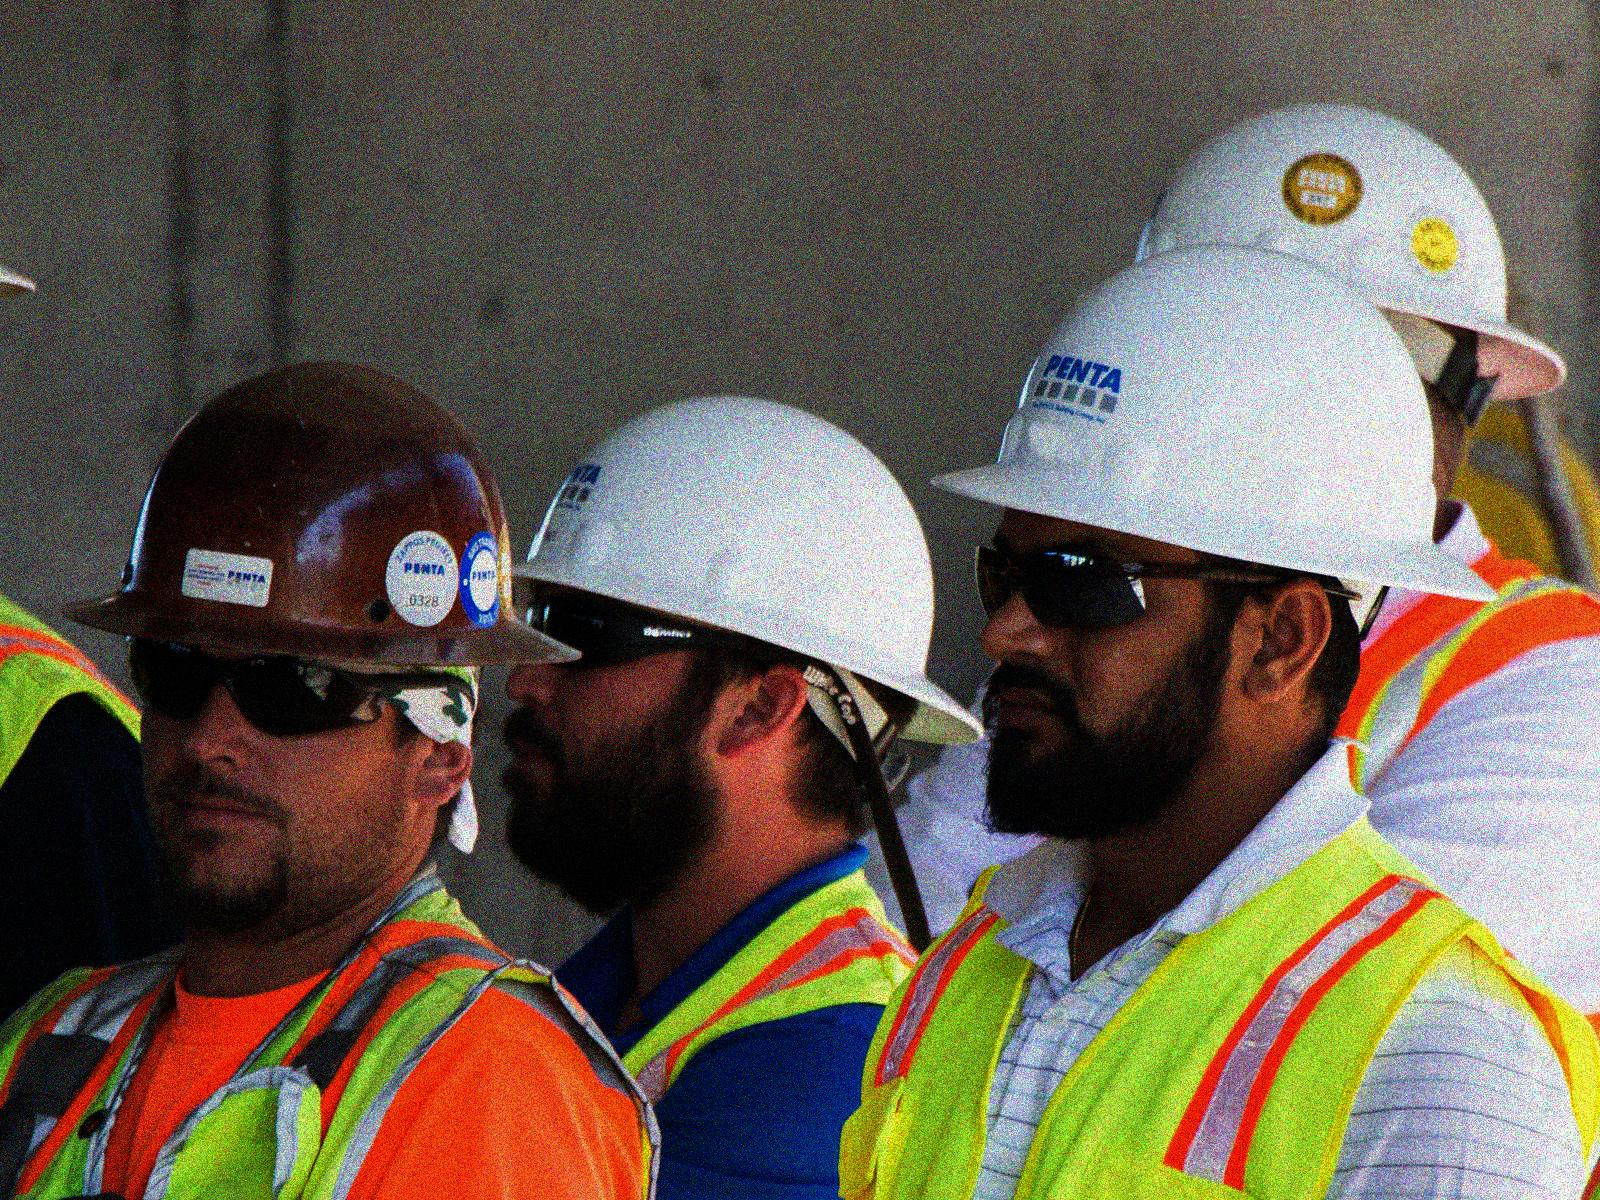helmet: (931, 242, 1500, 823), (68, 353, 580, 948), (503, 392, 983, 885), (1136, 92, 1565, 483)
